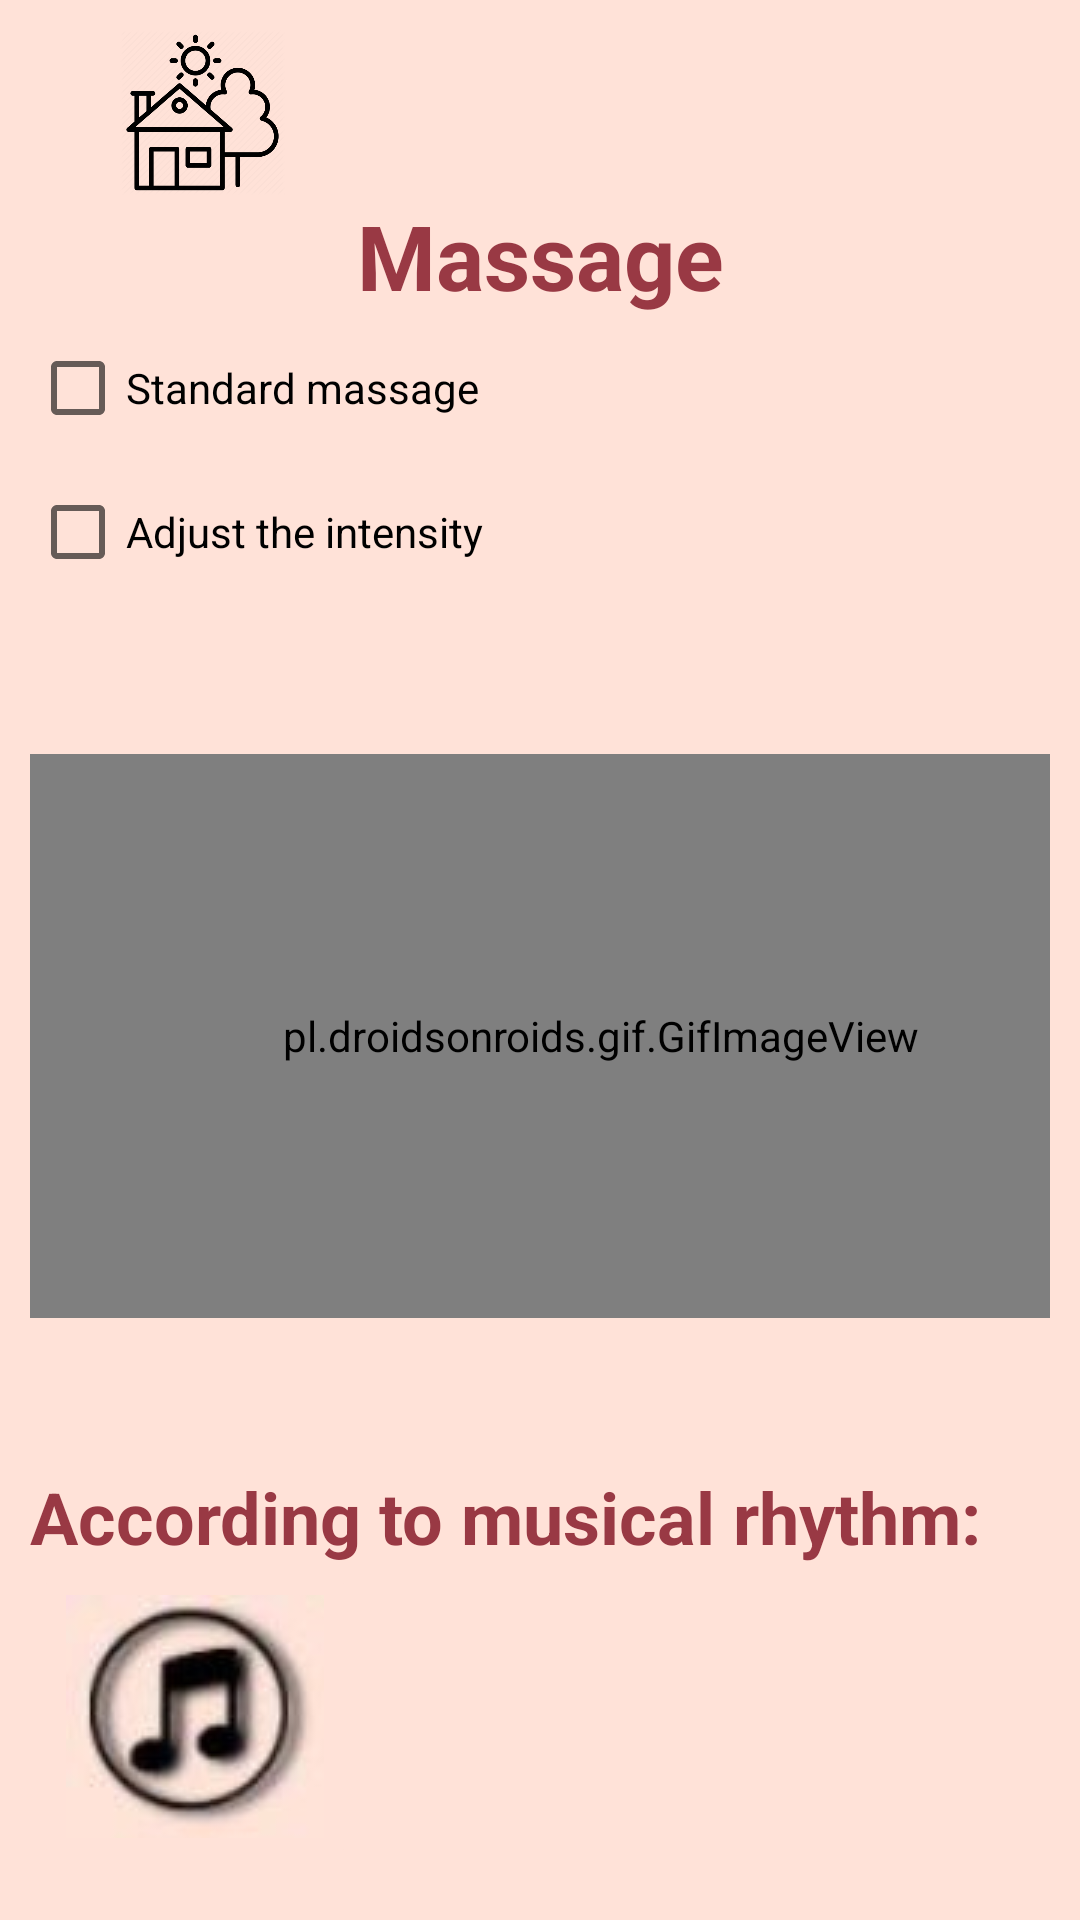

Named icons in this screenshot (1080*1920) and their centers, point (x, y):
house: point (202, 112)
